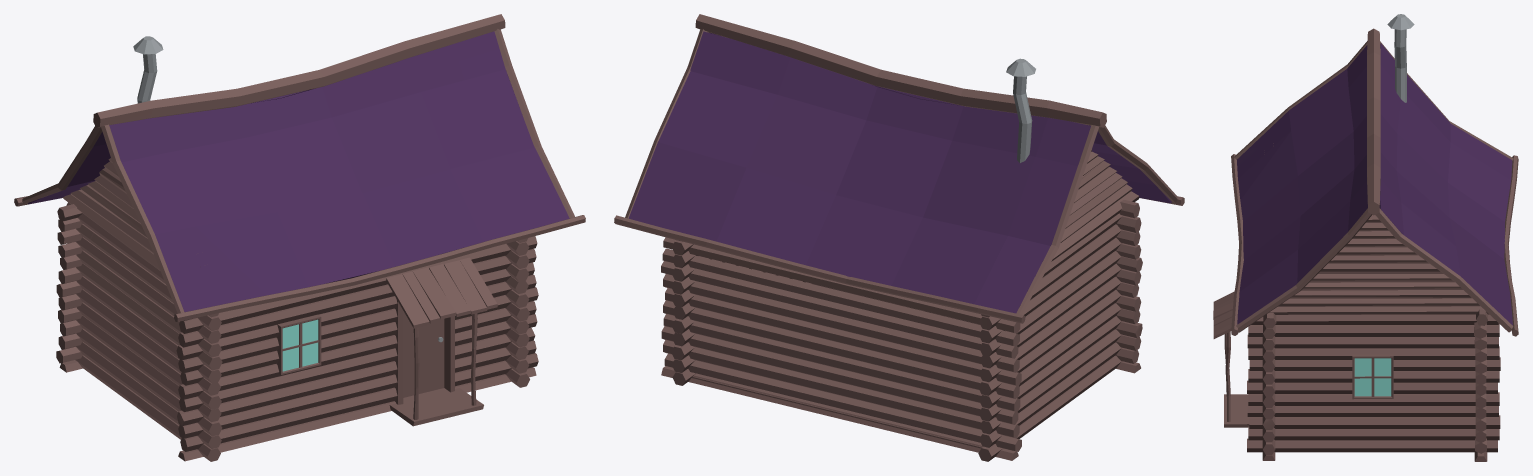
The model's file is cabin.fbx.
3 renders of one model, left to right at view 1: azimuth 30°, elevation 25°; view 2: azimuth 150°, elevation 25°; view 3: azimuth 270°, elevation 25°, orthographic. The views are drawn at different scales.
Visible parts, largest first — view 1: cabin_top, cabin_bottom, door, door_frame; view 2: cabin_top, cabin_bottom; view 3: cabin_top, cabin_bottom.
Part boxes in pixels (x1=…): cabin_top: x1=14, y1=14, x2=585, y2=426; cabin_bottom: x1=56, y1=218, x2=538, y2=461; door: x1=403, y1=311, x2=444, y2=397; door_frame: x1=394, y1=299, x2=454, y2=404; cabin_top: x1=614, y1=14, x2=1184, y2=337; cabin_bottom: x1=661, y1=237, x2=1141, y2=461; cabin_top: x1=1213, y1=14, x2=1518, y2=430; cabin_bottom: x1=1224, y1=322, x2=1500, y2=461.
Size of the model in its own units: 1597 by 1329 by 1178.
